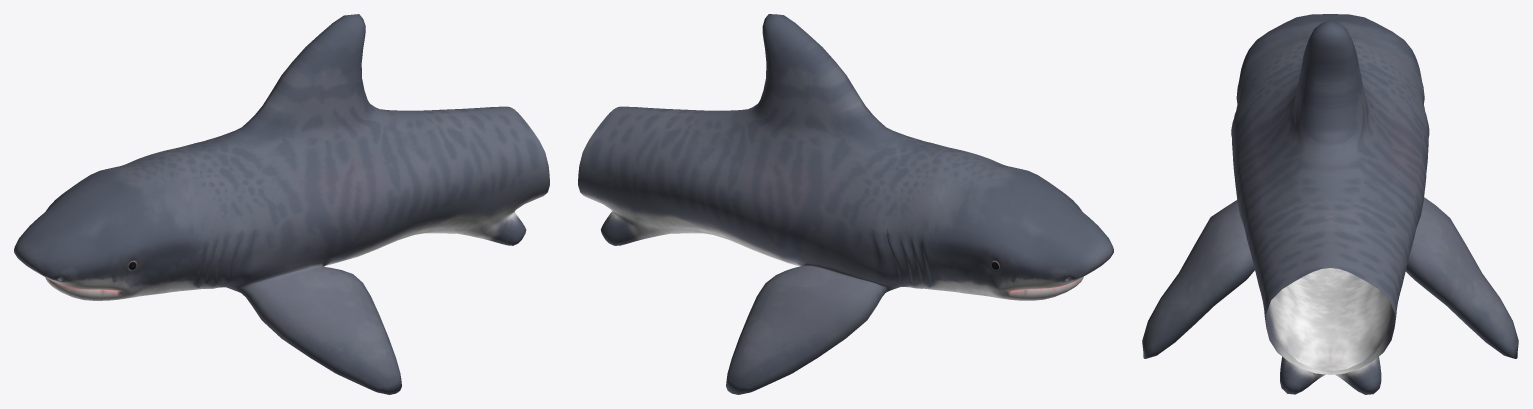
The model's file is cuerpoTiger.obj.
The picture shows the model from 3 angles, left to right: view 1: azimuth 30°, elevation 25°; view 2: azimuth 150°, elevation 25°; view 3: azimuth 270°, elevation 25°; orthographic projection. The views are drawn at different scales.
Parts seen in each view (by area): view 1: polySurface1 baby_tiburon:_Tiger_Shark_v1; view 2: polySurface1 baby_tiburon:_Tiger_Shark_v1; view 3: polySurface1 baby_tiburon:_Tiger_Shark_v1.
Boxes of the visible parts, bbox=[...] form: polySurface1 baby_tiburon:_Tiger_Shark_v1: bbox=[14, 14, 549, 394]; polySurface1 baby_tiburon:_Tiger_Shark_v1: bbox=[578, 14, 1113, 394]; polySurface1 baby_tiburon:_Tiger_Shark_v1: bbox=[1142, 14, 1518, 394].
Size of the model in its own units: 6.22 by 3.65 by 3.51.
Materials: 1 (1 with a texture image).
